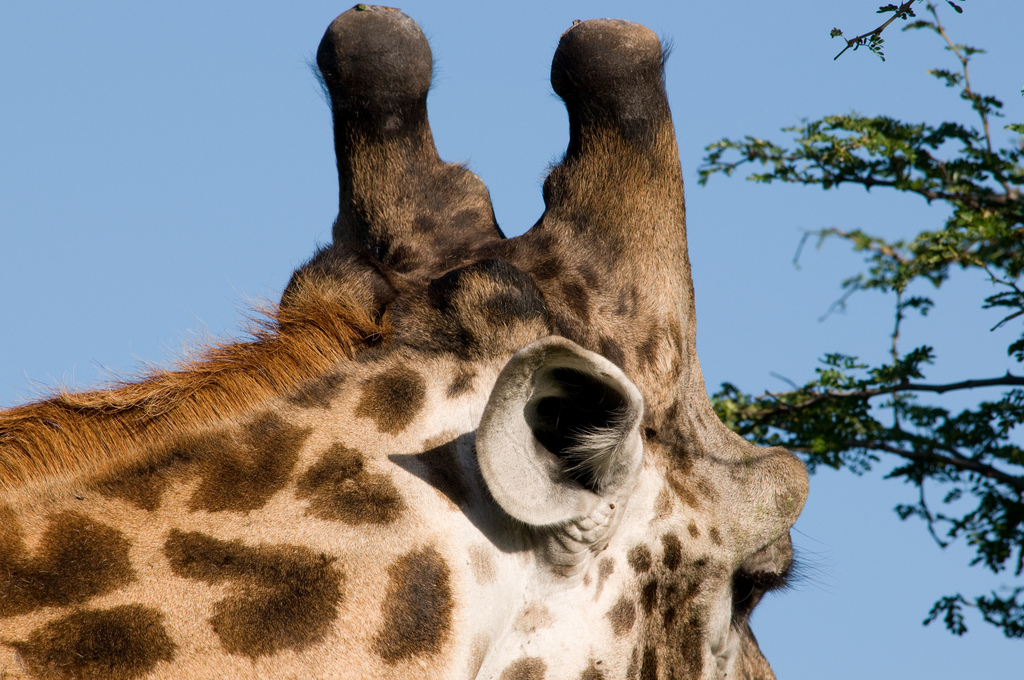giraffe: (26, 14, 837, 657)
